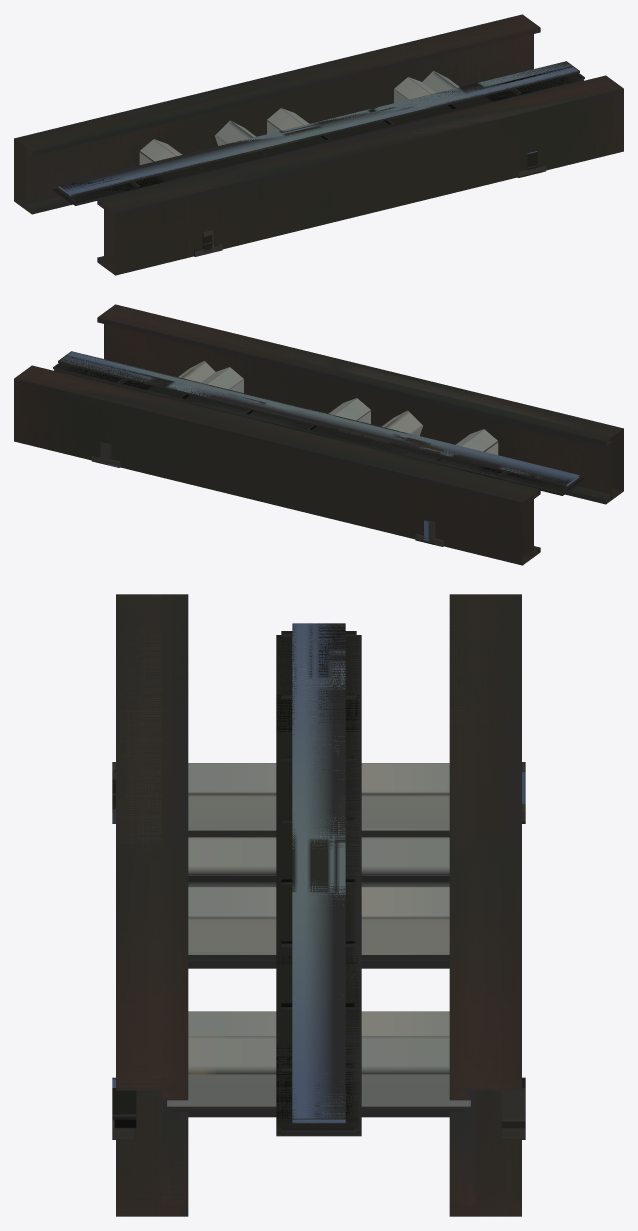
Rendered from place_works_conduit_lane_straight.glb.
3 renders of one model, top to bottom at view 1: azimuth 30°, elevation 25°; view 2: azimuth 150°, elevation 25°; view 3: azimuth 270°, elevation 25°, orthographic. The views are drawn at different scales.
Parts seen in each view (by area): view 1: LOD0_Merged_Material_Atlas, LOD2_Merged_Material_Atlas, LOD1_Merged_Material_Atlas, LOD0_flow_mesh, LOD2_flow_mesh, LOD1_flow_mesh; view 2: LOD0_Merged_Material_Atlas, LOD1_Merged_Material_Atlas, LOD2_Merged_Material_Atlas, LOD0_flow_mesh, LOD2_flow_mesh, LOD1_flow_mesh; view 3: LOD0_Merged_Material_Atlas, LOD1_Merged_Material_Atlas, LOD2_Merged_Material_Atlas, LOD0_flow_mesh, LOD1_flow_mesh, LOD2_flow_mesh.
Part boxes in pixels (<box>): LOD0_Merged_Material_Atlas: <box>14,14,623,275</box>; LOD2_Merged_Material_Atlas: <box>14,15,623,273</box>; LOD1_Merged_Material_Atlas: <box>14,15,623,274</box>; LOD0_flow_mesh: <box>53,73,584,205</box>; LOD2_flow_mesh: <box>58,75,582,205</box>; LOD1_flow_mesh: <box>59,75,582,205</box>; LOD0_Merged_Material_Atlas: <box>14,304,623,565</box>; LOD1_Merged_Material_Atlas: <box>14,304,623,565</box>; LOD2_Merged_Material_Atlas: <box>14,305,623,563</box>; LOD0_flow_mesh: <box>53,363,584,495</box>; LOD2_flow_mesh: <box>56,365,573,495</box>; LOD1_flow_mesh: <box>54,364,579,495</box>; LOD0_Merged_Material_Atlas: <box>112,594,525,1216</box>; LOD1_Merged_Material_Atlas: <box>116,594,521,1216</box>; LOD2_Merged_Material_Atlas: <box>116,594,521,1216</box>; LOD0_flow_mesh: <box>276,631,361,1136</box>; LOD1_flow_mesh: <box>276,635,361,1135</box>; LOD2_flow_mesh: <box>276,636,361,1135</box>.
Size of the model in its own units: 2.22 by 0.26 by 0.7746.
1 material, 1 textured.
